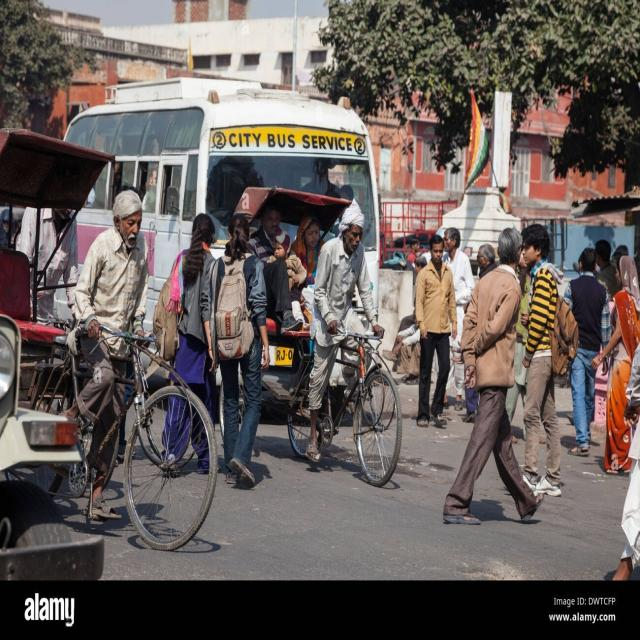bicycle: (0, 129, 218, 548), (236, 187, 402, 485)
bus: (65, 76, 380, 310)
